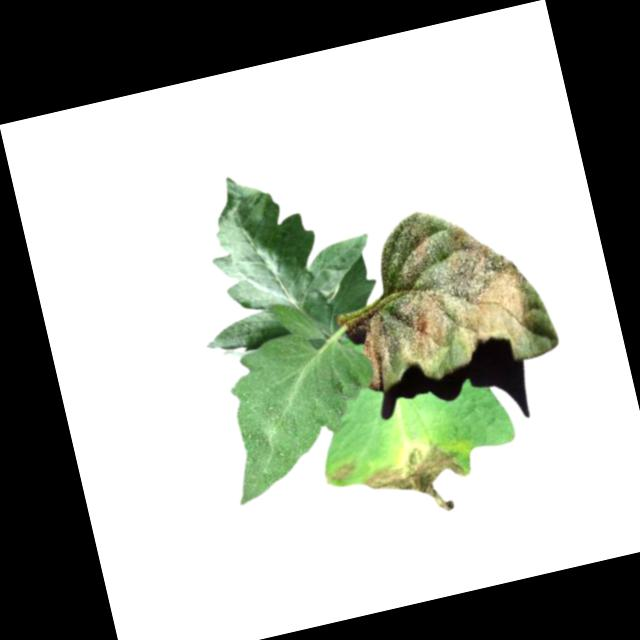Late_blight: (335, 185, 562, 396), (358, 433, 475, 528), (322, 460, 358, 488)
healthy: (169, 147, 386, 356), (205, 317, 397, 505)
